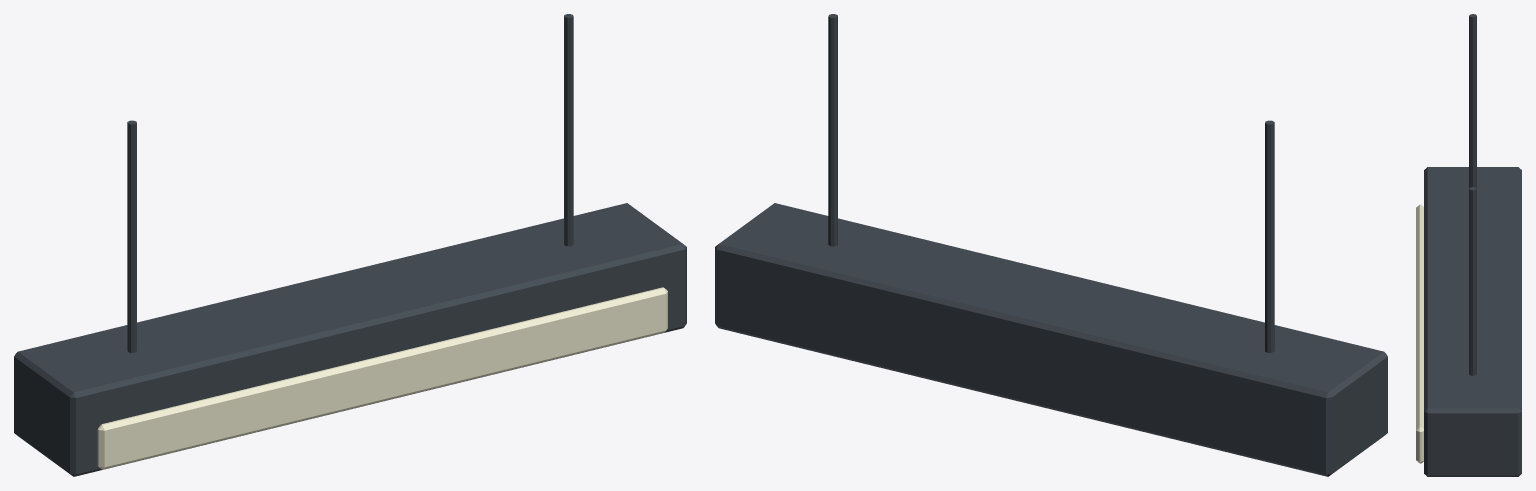
Rendered from ParkingHangingLight.fbx.
3 views of the same model, side by side, from view 1: azimuth 30°, elevation 25°; view 2: azimuth 150°, elevation 25°; view 3: azimuth 270°, elevation 25° (orthographic). The views are drawn at different scales.
Parts seen in each view (by area): view 1: ParkingHangingLight; view 2: ParkingHangingLight; view 3: ParkingHangingLight.
Boxes of the visible parts, bbox=[...] form: ParkingHangingLight: bbox=[14, 14, 686, 476]; ParkingHangingLight: bbox=[715, 14, 1387, 476]; ParkingHangingLight: bbox=[1416, 14, 1521, 476].
Size of the model in its own units: 130 by 63 by 23.8.
Materials: 1 (1 with a texture image).
